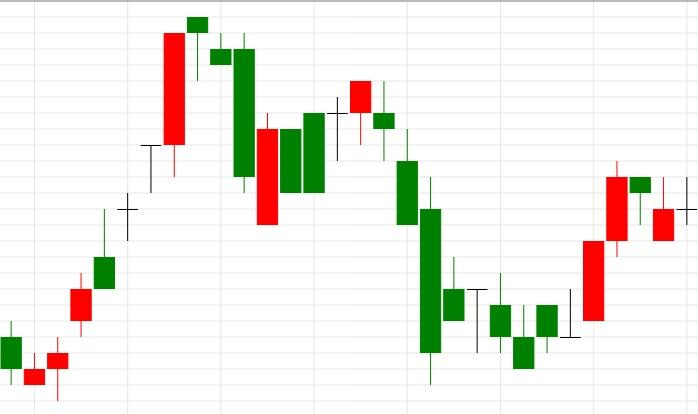hanging_man_fall: (24, 16, 209, 402), (512, 161, 652, 370)
